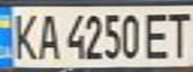0: (118, 10, 145, 60)
2: (81, 10, 106, 61)
4: (63, 9, 84, 61)
5: (103, 10, 124, 61)
A: (33, 10, 63, 61)
E: (142, 9, 175, 61)
K: (6, 9, 42, 61)
T: (163, 8, 193, 60)
